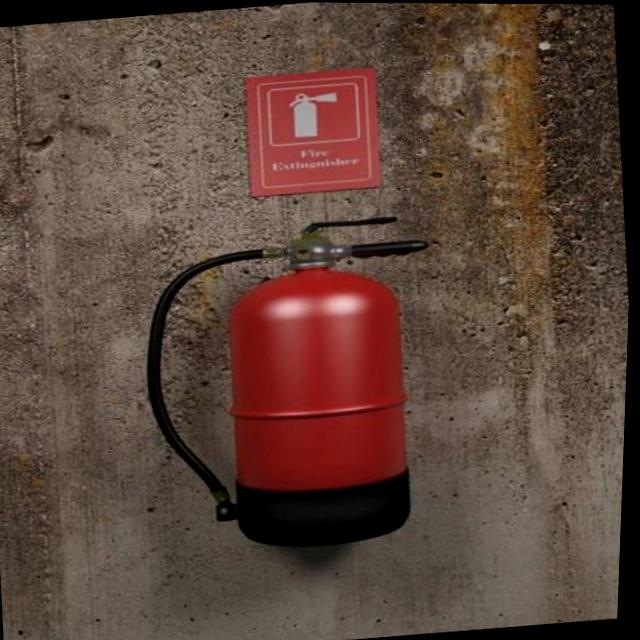FireExtinguisher: (122, 201, 469, 563)
